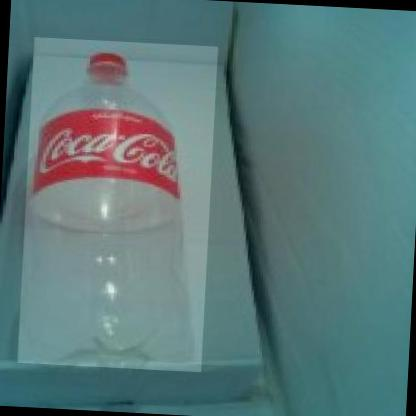plastic_bottles: (17, 38, 218, 372)
